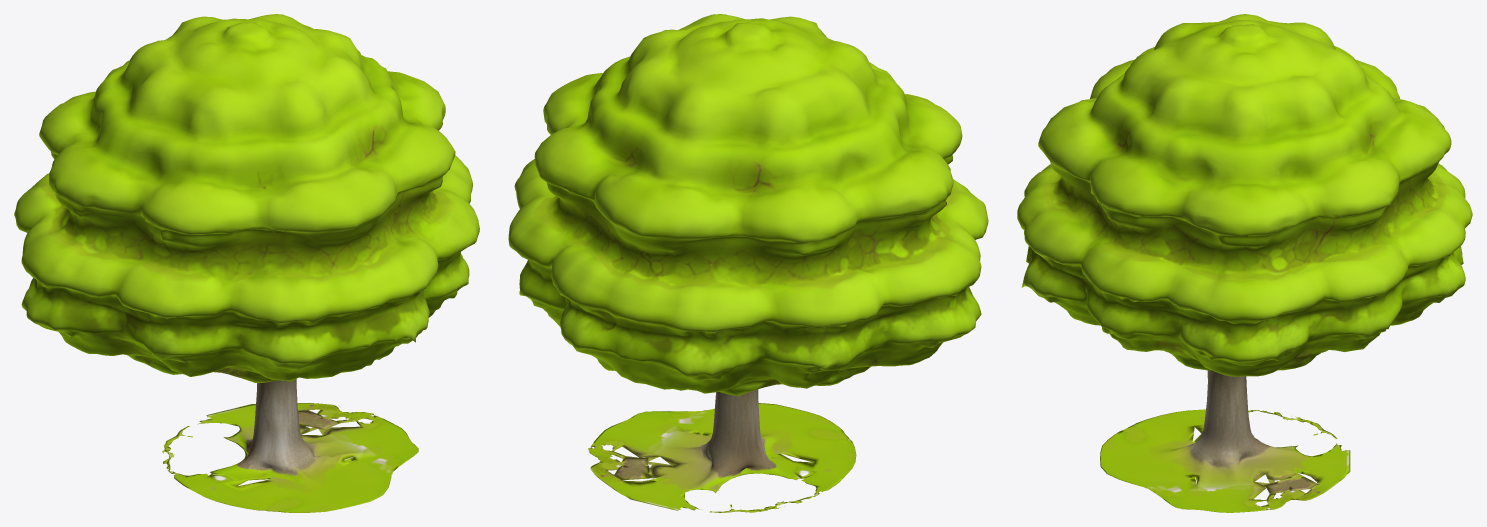
File: realistic-oak-tree.glb
3 views of the same model, side by side, from view 1: azimuth 30°, elevation 25°; view 2: azimuth 150°, elevation 25°; view 3: azimuth 270°, elevation 25° (orthographic). The views are drawn at different scales.
Visible parts, largest first — view 1: model; view 2: model; view 3: model.
Part boxes in pixels (x1,y1,x2,y2): model: (14, 14, 479, 512); model: (508, 14, 988, 512); model: (1017, 14, 1472, 512).
Size of the model in its own units: 1.86 by 1.76 by 1.75.
Materials: 1 (1 with a texture image).
